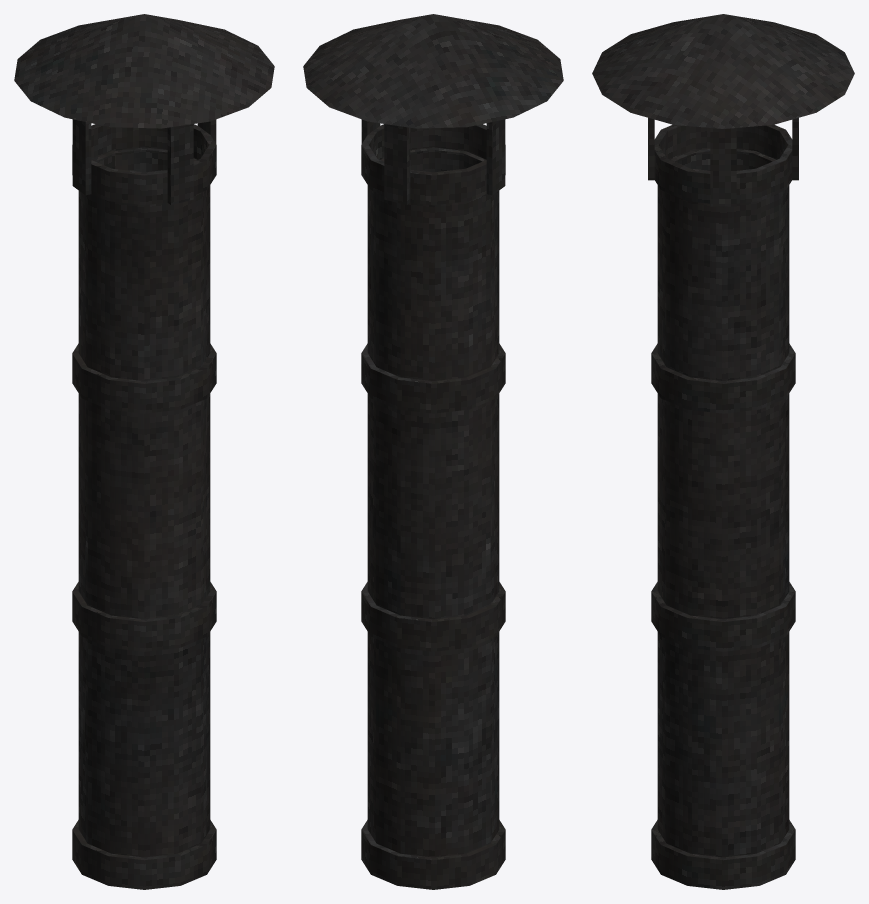
The model's file is chimney_a_2.glb.
3 views of the same model, side by side, from view 1: azimuth 30°, elevation 25°; view 2: azimuth 150°, elevation 25°; view 3: azimuth 270°, elevation 25° (orthographic).
Visible parts, largest first — view 1: chimney_a_2; view 2: chimney_a_2; view 3: chimney_a_2.
Part boxes in pixels (x1=…): chimney_a_2: x1=14, y1=14, x2=274, y2=889; chimney_a_2: x1=303, y1=14, x2=563, y2=889; chimney_a_2: x1=592, y1=14, x2=854, y2=889.
Bounding box in the file's own units: 0.4 × 1.42 × 0.4.
Materials: 1 (1 with a texture image).
